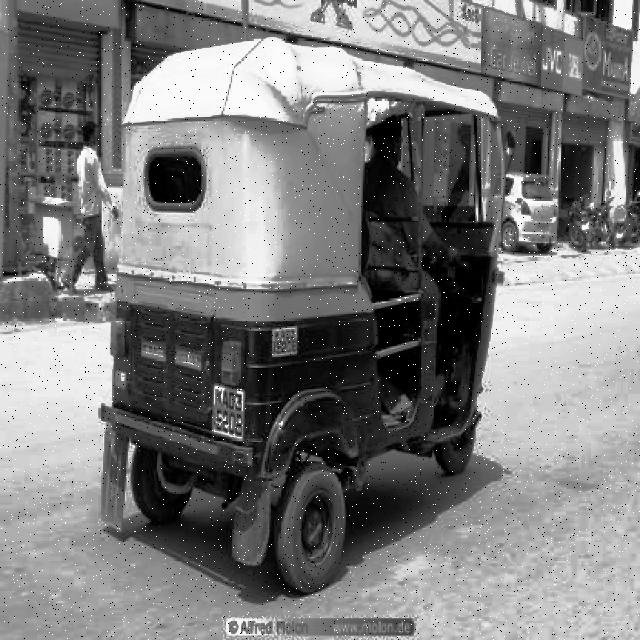Auto-Rickshaw: (103, 42, 502, 600)
